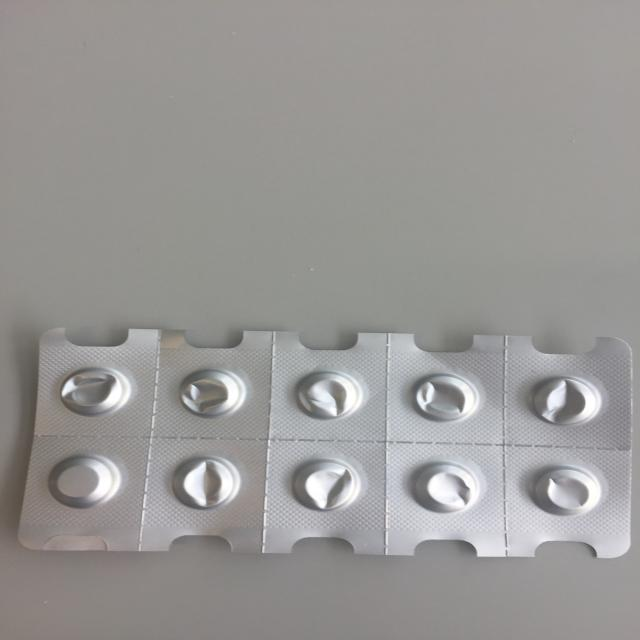Empty: (405, 454, 485, 521), (519, 368, 603, 430), (284, 453, 370, 511), (168, 364, 250, 424), (526, 458, 602, 520), (55, 359, 131, 418), (165, 451, 242, 509), (286, 368, 366, 423), (403, 371, 482, 426)
Pill: (46, 453, 128, 508)
